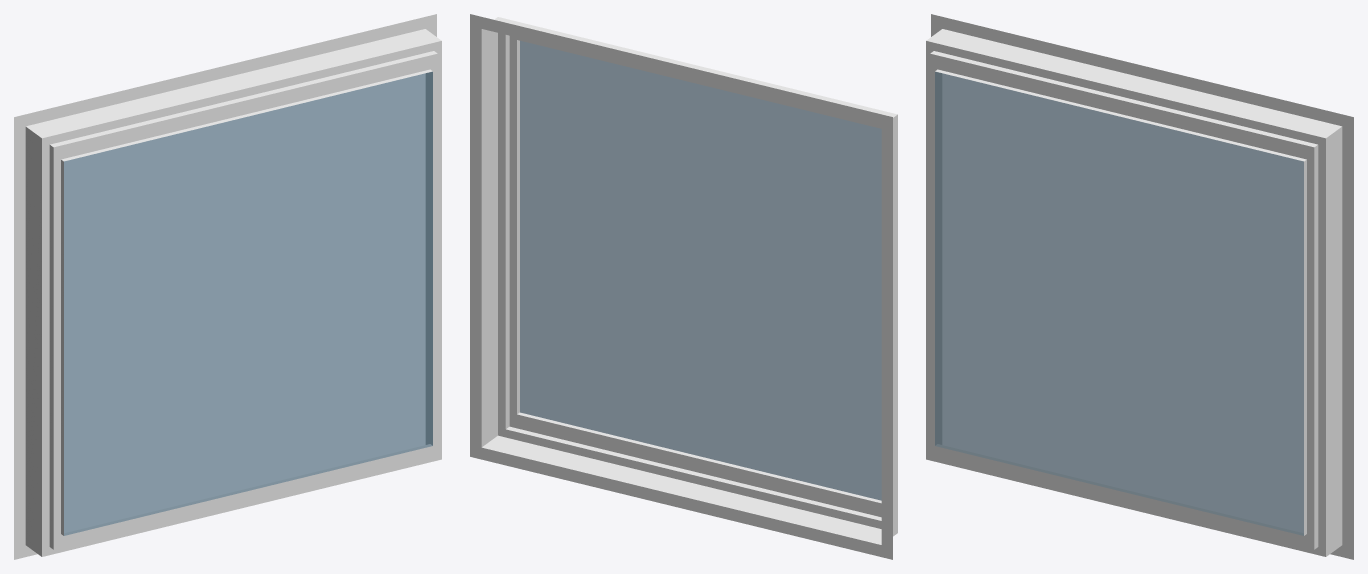
The model's file is p55-windows-stairs-square.fbx.
3 renders of one model, left to right at view 1: azimuth 30°, elevation 25°; view 2: azimuth 150°, elevation 25°; view 3: azimuth 330°, elevation 25°, orthographic.
Parts seen in each view (by area): view 1: window-stairs-square; view 2: window-stairs-square; view 3: window-stairs-square.
Boxes of the visible parts, <box> form: window-stairs-square: <box>14,14,441,559</box>; window-stairs-square: <box>470,14,897,559</box>; window-stairs-square: <box>926,14,1353,559</box>.
Bounding box in the file's own units: 84.06 × 84.11 × 7.89.
